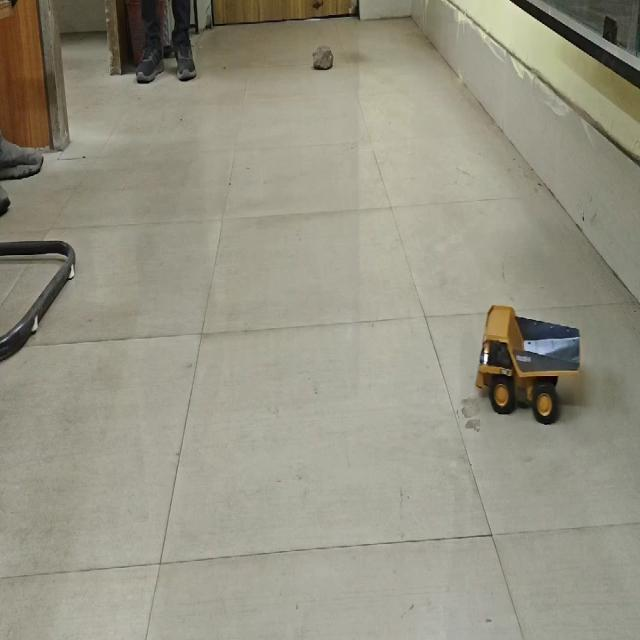dump_truck: (476, 301, 584, 422)
